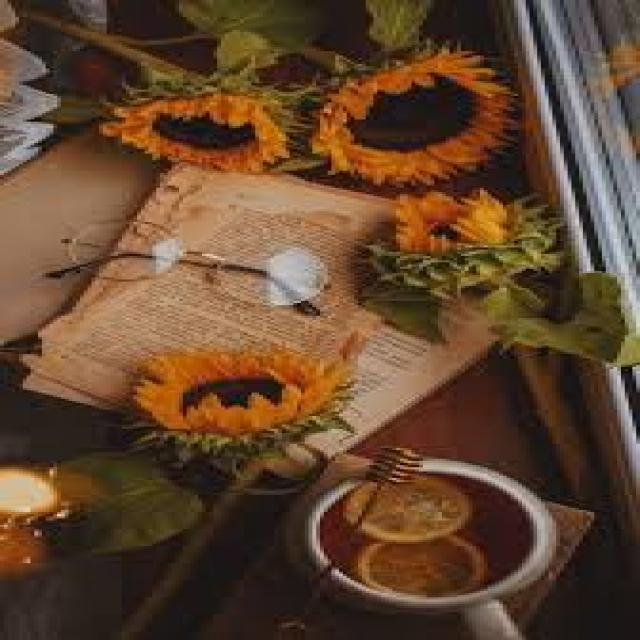sunflower: (310, 51, 514, 186), (132, 347, 358, 434), (95, 92, 291, 170), (388, 186, 514, 252)
